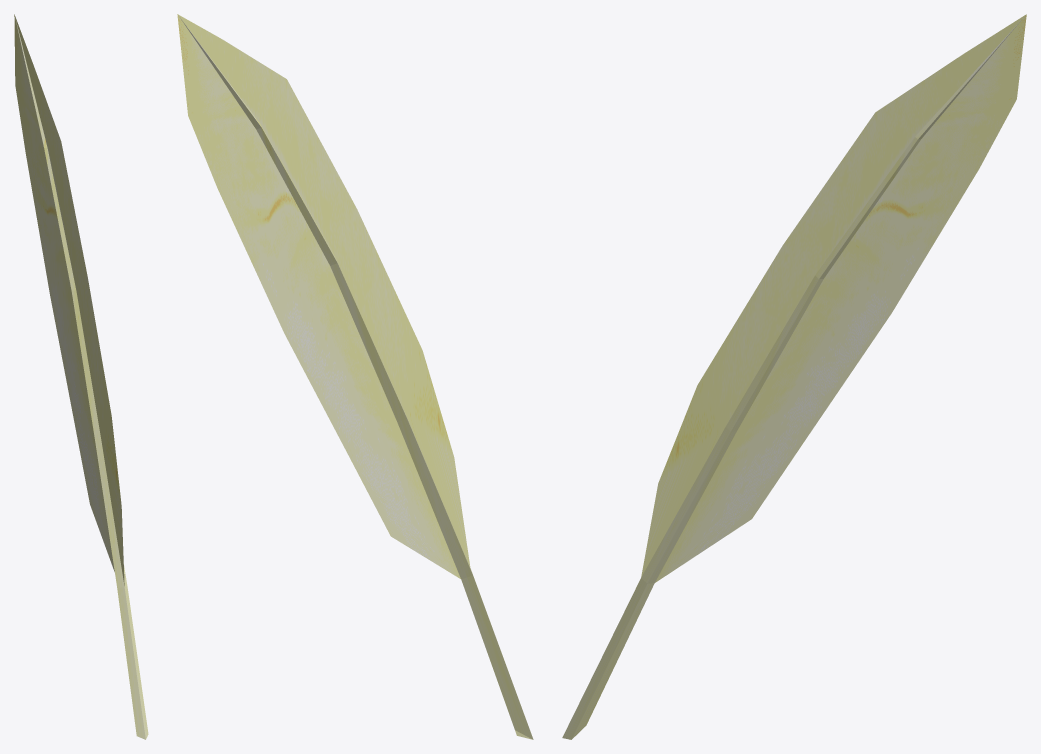
The model's file is quill.gltf.
3 views of the same model, side by side, from view 1: azimuth 30°, elevation 25°; view 2: azimuth 150°, elevation 25°; view 3: azimuth 270°, elevation 25° (orthographic). The views are drawn at different scales.
Parts seen in each view (by area): view 1: quill; view 2: quill; view 3: quill.
Boxes of the visible parts, x1,y1,x2,y2 form: quill: (14,14,148,739); quill: (177,14,533,739); quill: (562,14,1026,739).
Bounding box in the file's own units: 0.0201 × 0.2112 × 0.1179.
Materials: 1 (1 with a texture image).
